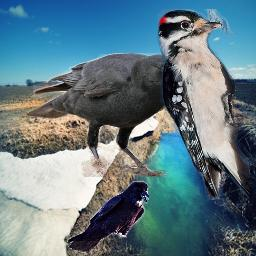Crow: (25, 53, 203, 177), (67, 181, 149, 252)
Woodpecker: (157, 9, 250, 200)
